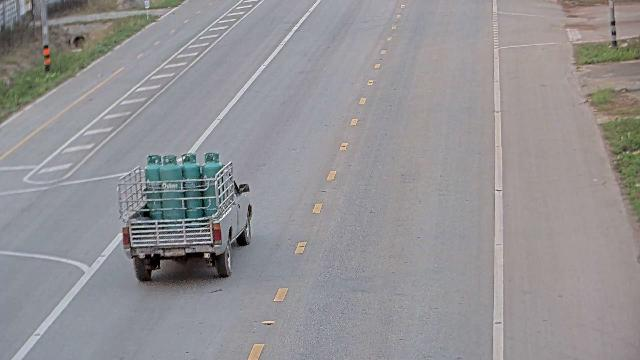pickup-truck: (116, 151, 253, 282)
